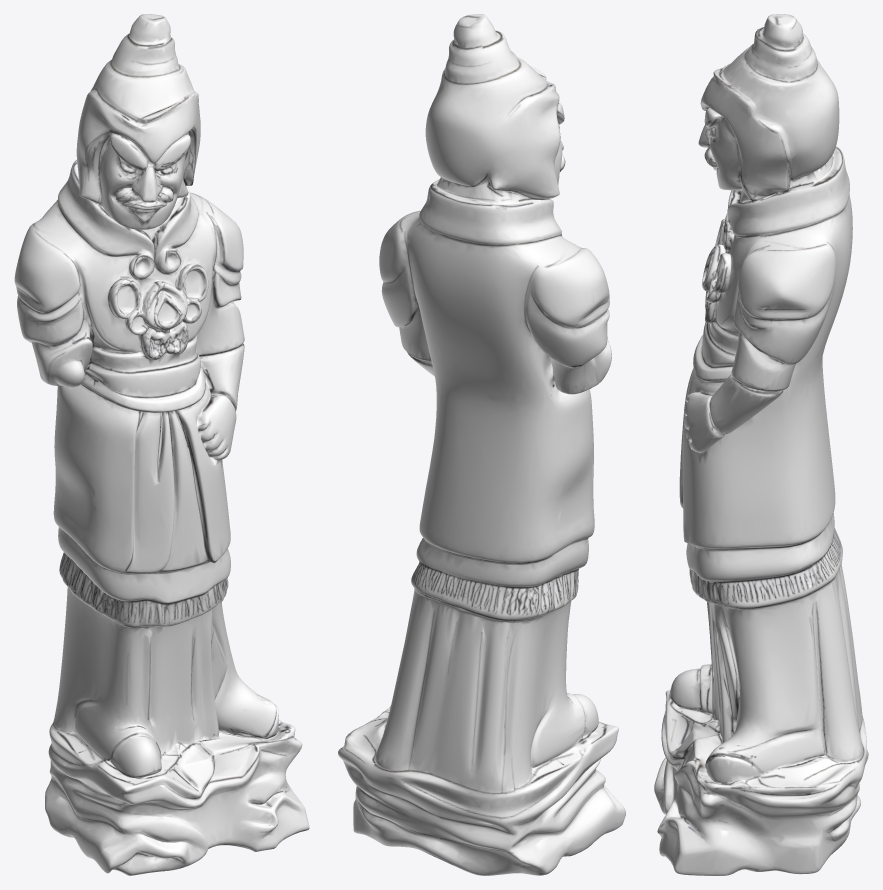
3 renders of one model, left to right at view 1: azimuth 30°, elevation 25°; view 2: azimuth 150°, elevation 25°; view 3: azimuth 270°, elevation 25°, orthographic. The views are drawn at different scales.
Parts seen in each view (by area): view 1: node_0; view 2: node_0; view 3: node_0.
Boxes of the visible parts, left/top/right/bottom form: node_0: left=14, top=14, right=309, bottom=875; node_0: left=338, top=14, right=625, bottom=875; node_0: left=654, top=14, right=868, bottom=875.
Bounding box in the file's own units: 0.3572 × 1.14 × 0.275.
Materials: 1 (1 with a texture image).
